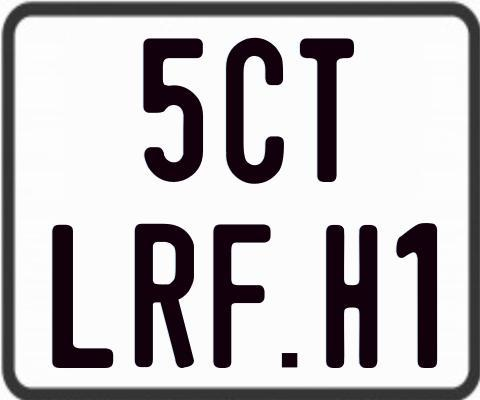1: (393, 220, 438, 370)
5: (140, 35, 204, 179)
C: (223, 36, 284, 186)
F: (213, 221, 272, 367)
H: (325, 225, 380, 368)
L: (51, 225, 115, 370)
R: (133, 223, 192, 371)
T: (299, 35, 357, 180)
